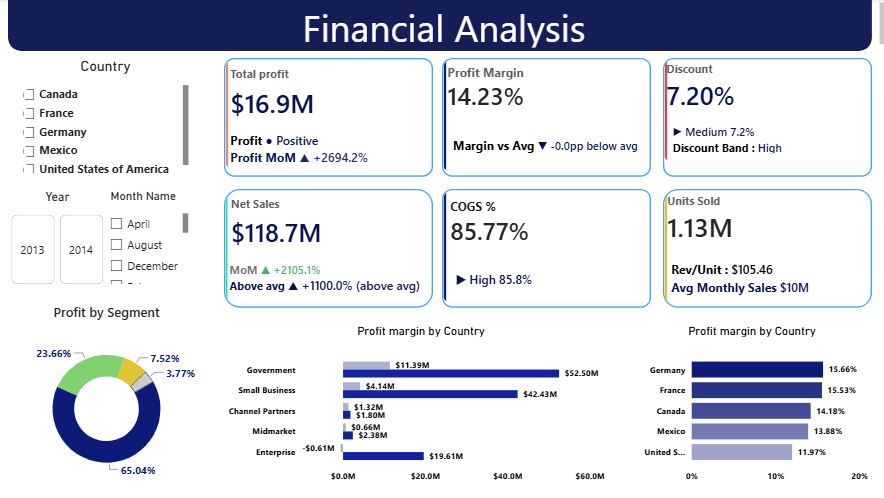

Layout of this report page (visuals, bound fields, positions):
{"tool":"powerbi","page":{"name":"Page 1","canvas":[1280,720],"ordinal":0},"visuals":[{"type":"cardVisual","fields":{"Data":["Cleaned_Financuaks.Total sales"]},"box":[325.4,273.6,301,171.4],"z":0},{"type":"donutChart","title":"Profit by Segment","fields":{"Category":["Cleaned_Financuaks.Segment"],"Y":["Cleaned_Financuaks.Total profit"]},"box":[14.4,433.4,283.7,272.2],"z":1000},{"type":"cardVisual","fields":{"Data":["Cleaned_Financuaks.Total profit"]},"box":[325.4,85,301,171.4],"z":2000},{"type":"cardVisual","fields":{"Data":["Cleaned_Financuaks.Profit margin %"]},"box":[639.4,85,301,171.4],"z":3000},{"type":"cardVisual","fields":{"Data":["Cleaned_Financuaks.Total Units Sold"]},"box":[957.6,273.6,301,171.4],"z":4000},{"type":"cardVisual","fields":{"Data":["Cleaned_Financuaks.Discount %"]},"box":[957.6,85,301,171.4],"z":5000},{"type":"cardVisual","fields":{"Data":["Cleaned_Financuaks.COGS %"]},"box":[639.4,273.6,301,171.4],"z":6000},{"type":"barChart","title":"Profit margin by Country","fields":{"Category":["Cleaned_Financuaks.Country"],"Y":["Cleaned_Financuaks.Profit margin %"]},"box":[913,462.2,345.6,243.4],"z":7000},{"type":"listSlicer","fields":{"Values":["Cleaned_Financuaks.Country"]},"box":[30.2,85,249.1,171.4],"z":8000},{"type":"advancedSlicerVisual","fields":{"Values":["Cleaned_Financuaks.Year"]},"box":[14.4,273.6,142.6,142.6],"z":9000},{"type":"listSlicer","fields":{"Values":["Cleaned_Financuaks.Month Name"]},"box":[157,273.6,122.4,142.6],"z":10000},{"type":"clusteredBarChart","title":"Profit margin by Country","fields":{"Y":["Cleaned_Financuaks.Total profit","Cleaned_Financuaks.Total sales"],"Category":["Cleaned_Financuaks.Segment"]},"box":[325.4,462.2,567.4,243.4],"z":11000},{"type":"shape","box":[14.4,0,1244.2,74.9],"z":12000},{"type":"textbox","box":[12,0,1265.8,74.9],"z":13000}]}

Visuals, with their boxes in screenshot pixels (x1, y1, x2, y2), scaled from the page's 1280x720 canvas onto the 884x498 screenshot:
cardVisual - Cleaned_Financuaks.Total sales: [x1=225, y1=189, x2=433, y2=308]
"Profit by Segment" donutChart: [x1=10, y1=300, x2=206, y2=488]
cardVisual - Cleaned_Financuaks.Total profit: [x1=225, y1=59, x2=433, y2=177]
cardVisual - Cleaned_Financuaks.Profit margin %: [x1=442, y1=59, x2=649, y2=177]
cardVisual - Cleaned_Financuaks.Total Units Sold: [x1=661, y1=189, x2=869, y2=308]
cardVisual - Cleaned_Financuaks.Discount %: [x1=661, y1=59, x2=869, y2=177]
cardVisual - Cleaned_Financuaks.COGS %: [x1=442, y1=189, x2=649, y2=308]
"Profit margin by Country" barChart: [x1=631, y1=320, x2=869, y2=488]
listSlicer - Cleaned_Financuaks.Country: [x1=21, y1=59, x2=193, y2=177]
advancedSlicerVisual - Cleaned_Financuaks.Year: [x1=10, y1=189, x2=108, y2=288]
listSlicer - Cleaned_Financuaks.Month Name: [x1=108, y1=189, x2=193, y2=288]
"Profit margin by Country" clusteredBarChart: [x1=225, y1=320, x2=617, y2=488]
shape: [x1=10, y1=0, x2=869, y2=52]
textbox: [x1=8, y1=0, x2=882, y2=52]
